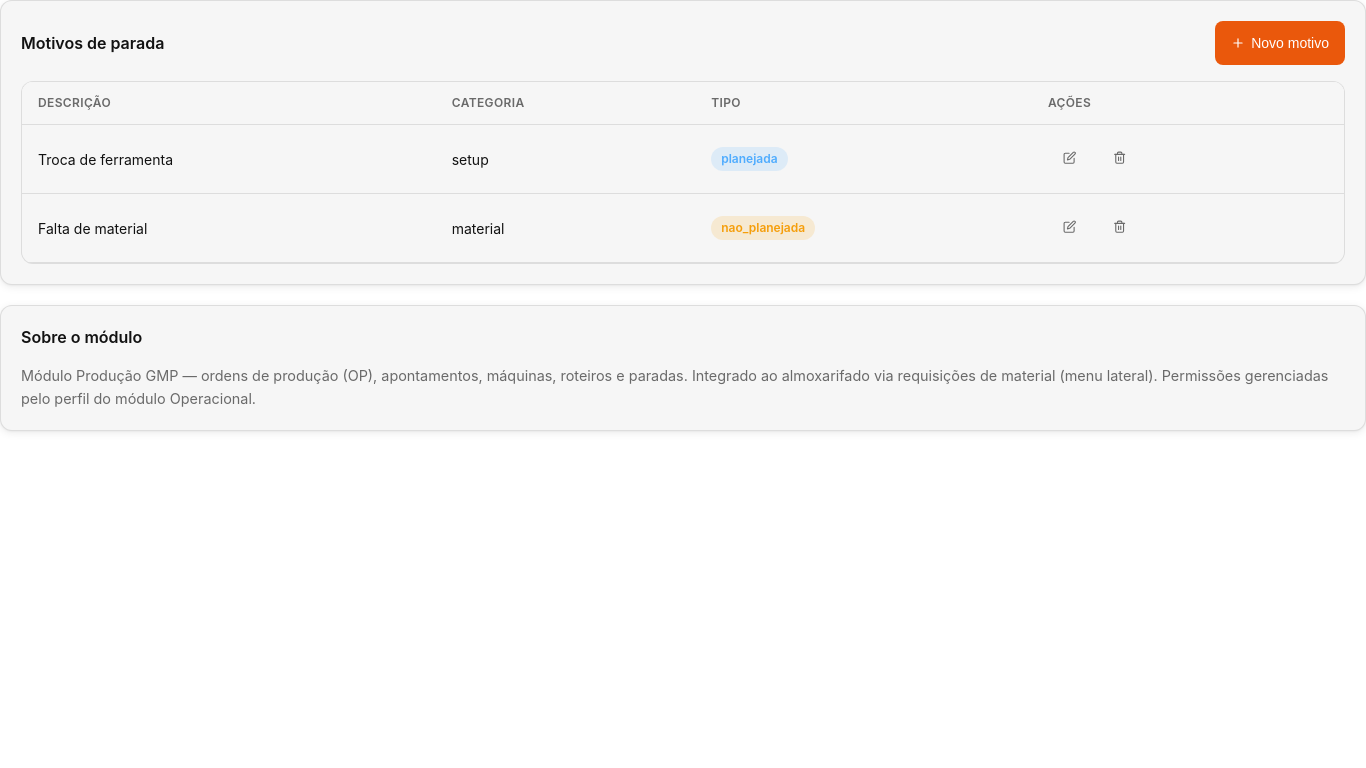
o botao movido continua abrindo o modal de novo motivo
Click the button "Novo motivo" at (1280, 43), box [1215,21,1345,65]
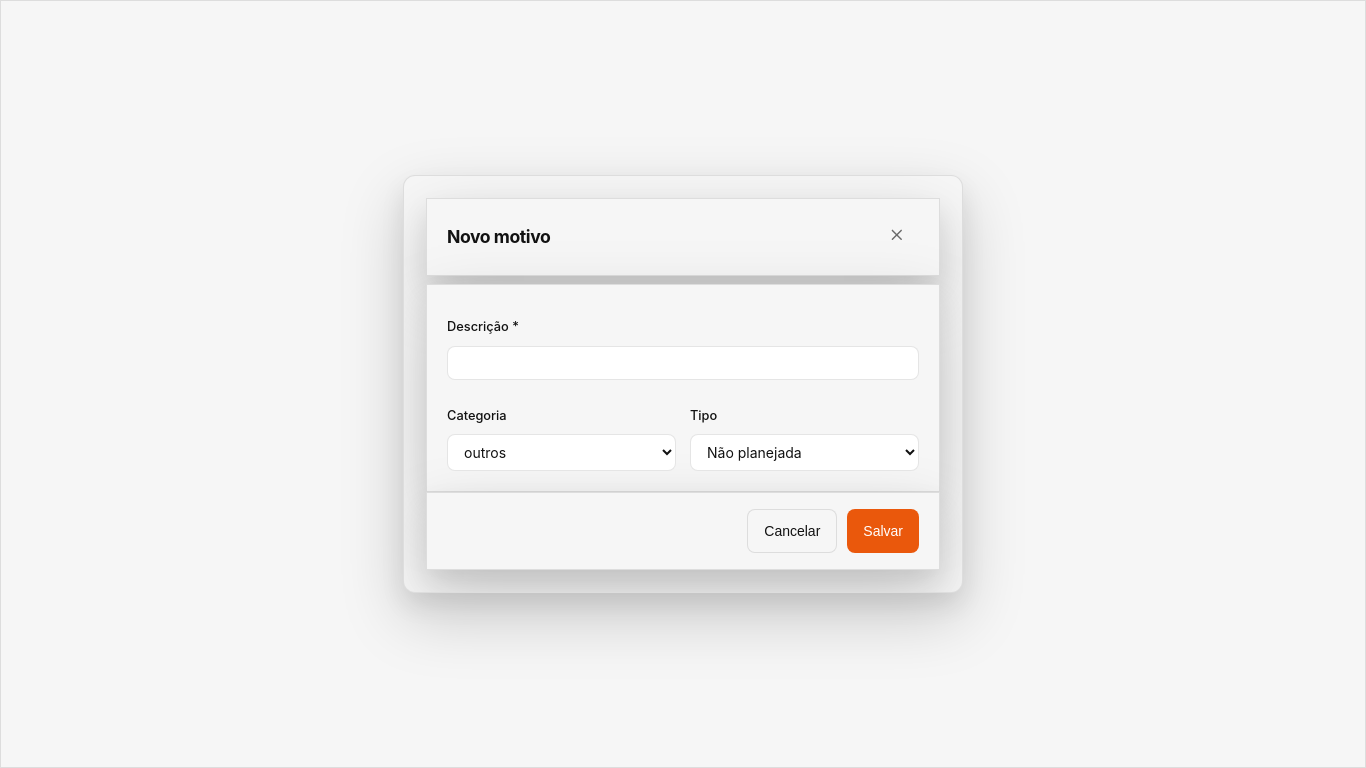
Expected: the element showing "Novo motivo Descrição * Categoria Tipo Cancelar Salvar" is shown, [403,175,963,593]
Expected: the heading "Novo motivo" is shown, [447,226,550,248]
